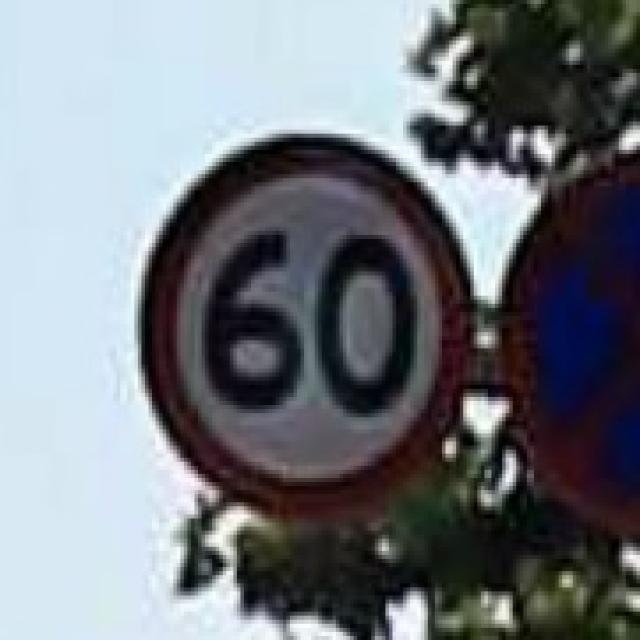Speed Limit -60-: (198, 225, 418, 418)
